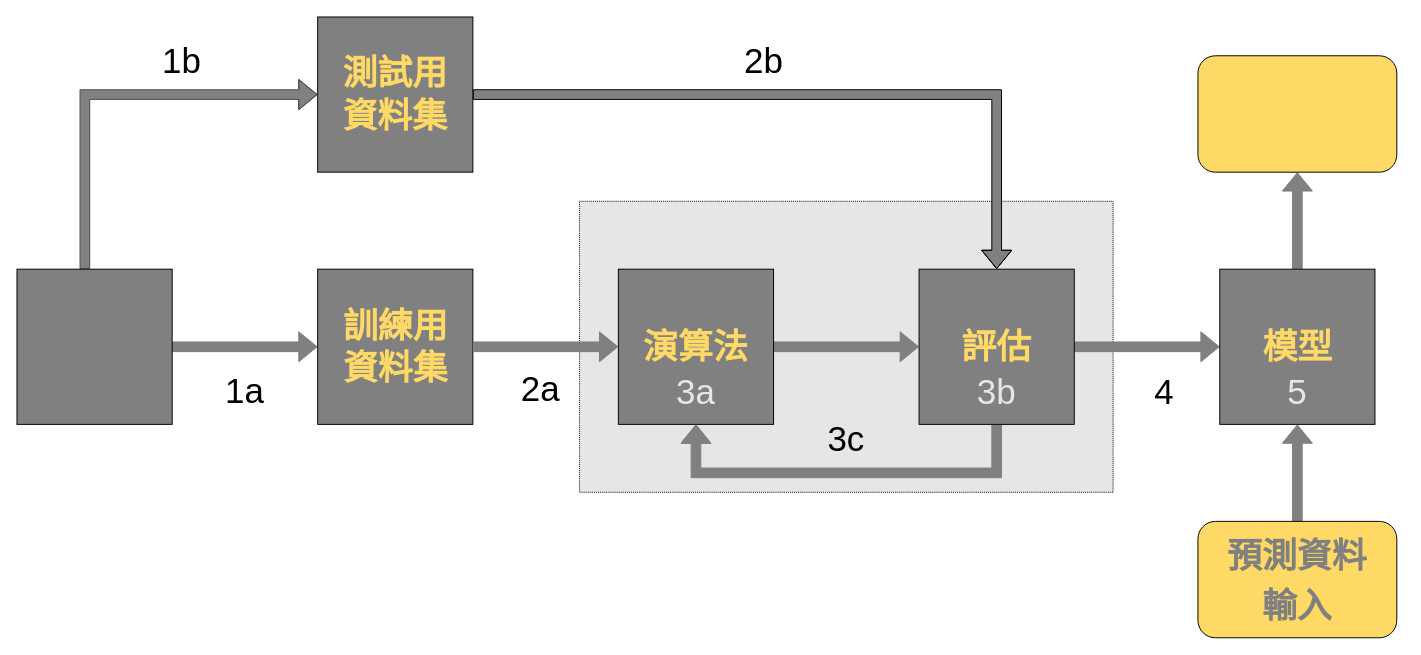
Some shapes in this 1421 by 655 pixel diagram are drawn without their labels. Each missing label, with the centre of its shape:
"資料" goes at point (94, 346).
"預測結果 輸出" goes at point (1297, 113).
